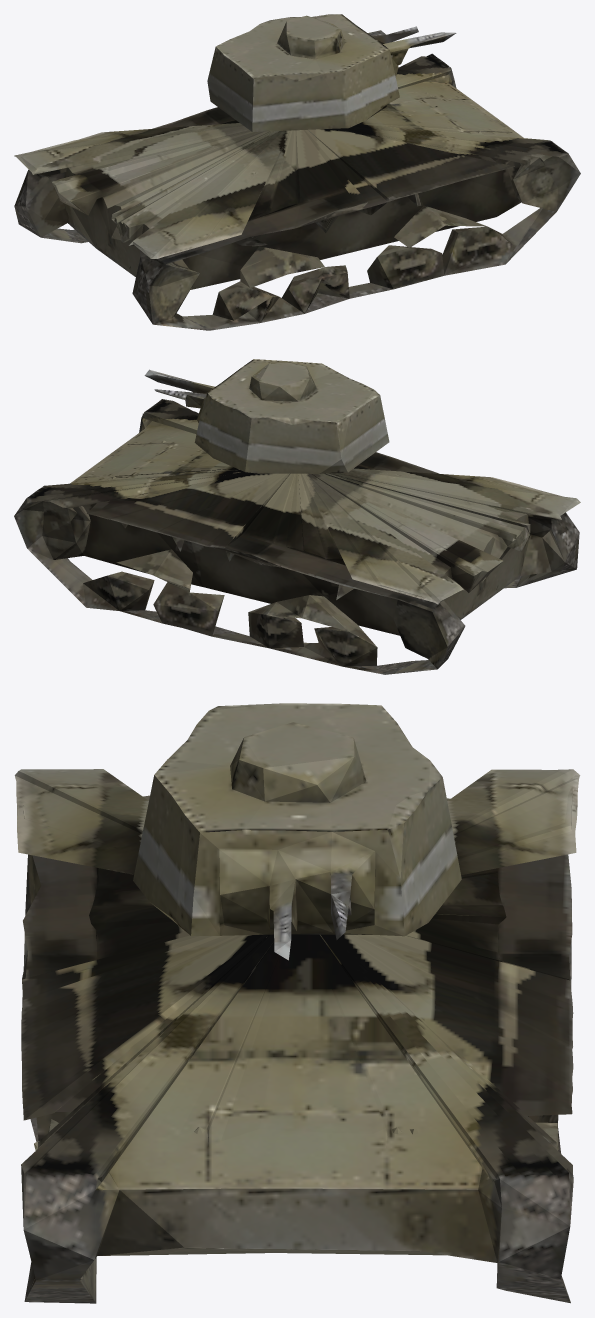
Rendered from both.obj.
3 renders of one model, top to bottom at view 1: azimuth 30°, elevation 25°; view 2: azimuth 150°, elevation 25°; view 3: azimuth 270°, elevation 25°, orthographic. The views are drawn at different scales.
Parts seen in each view (by area): view 1: turret.obj; view 2: turret.obj; view 3: turret.obj.
Boxes of the visible parts, bbox=[...] form: turret.obj: bbox=[14, 14, 580, 330]; turret.obj: bbox=[14, 359, 580, 674]; turret.obj: bbox=[14, 703, 580, 1303].
Size of the model in its own units: 1 by 0.4797 by 0.564.
Materials: 1 (1 with a texture image).
